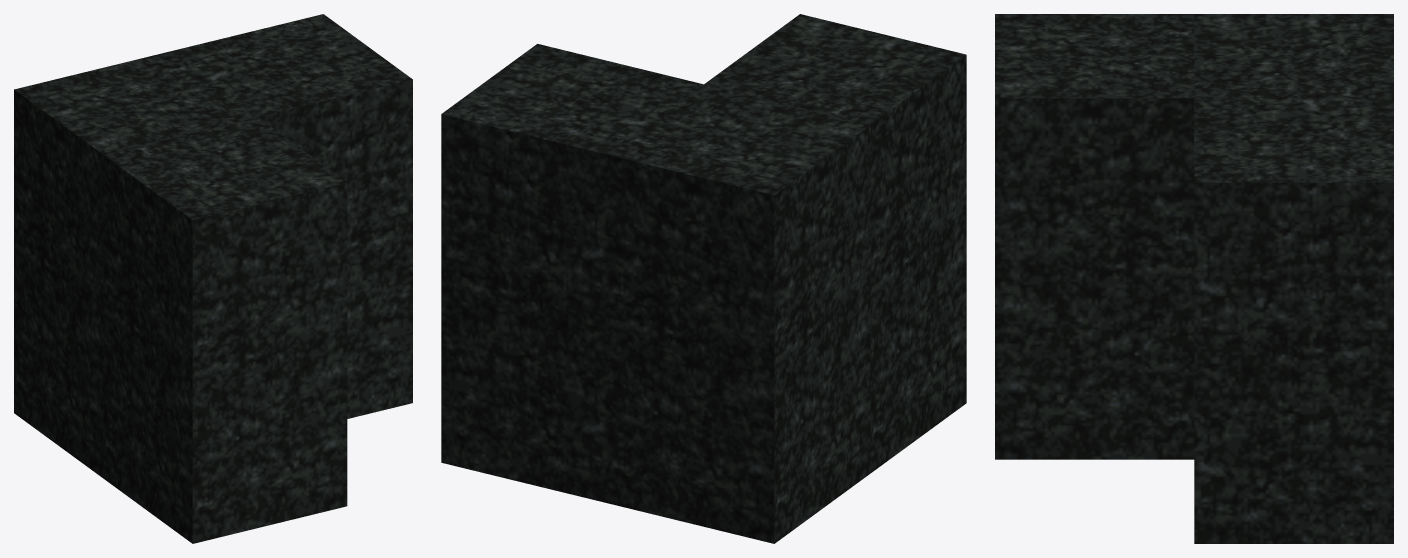
The model's file is SM_EC_Bush_Wall_1.fbx.
The picture shows the model from 3 angles, left to right: view 1: azimuth 30°, elevation 25°; view 2: azimuth 150°, elevation 25°; view 3: azimuth 270°, elevation 25°; orthographic projection. The views are drawn at different scales.
Visible parts, largest first — view 1: SM_EC_Bush_Wall_1; view 2: SM_EC_Bush_Wall_1; view 3: SM_EC_Bush_Wall_1.
Part boxes in pixels (x1,y1,x2,y2): SM_EC_Bush_Wall_1: [14, 14, 412, 543]; SM_EC_Bush_Wall_1: [441, 14, 966, 543]; SM_EC_Bush_Wall_1: [995, 14, 1393, 543].
Size of the model in its own units: 2 by 2 by 2.
